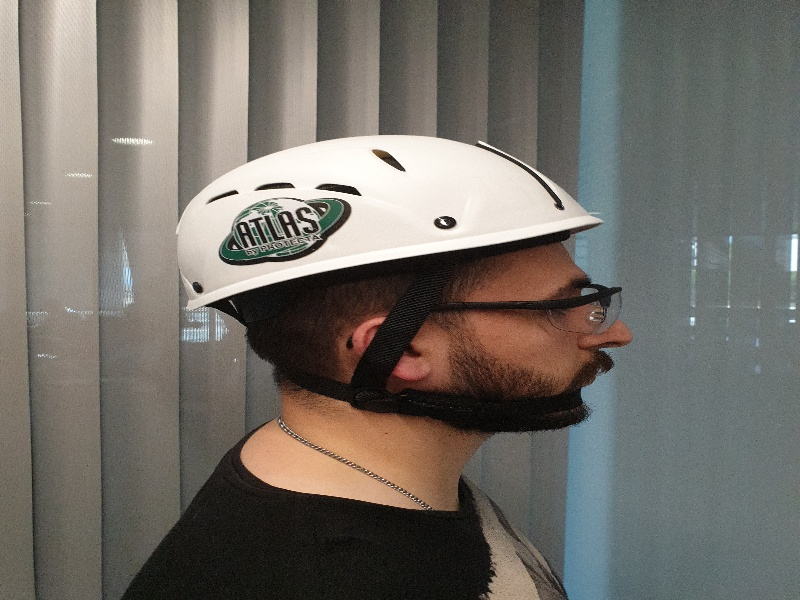Baret: (176, 135, 605, 288)
Gozluk: (405, 284, 625, 337)
